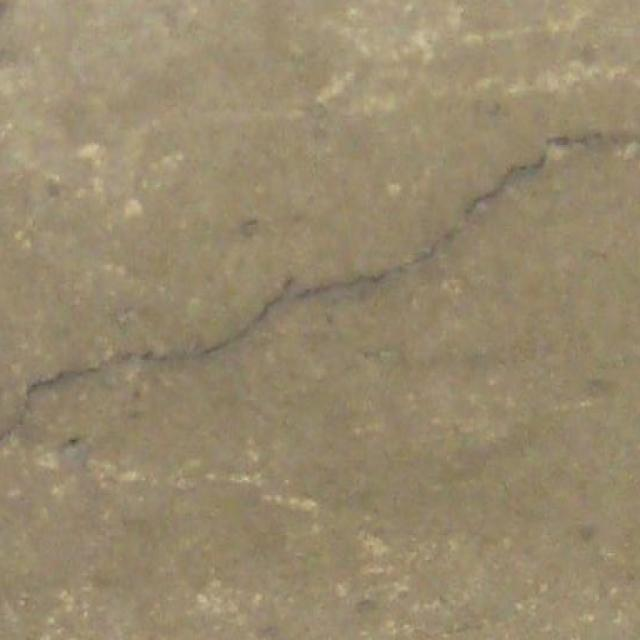Diagonal: (8, 119, 640, 405)
